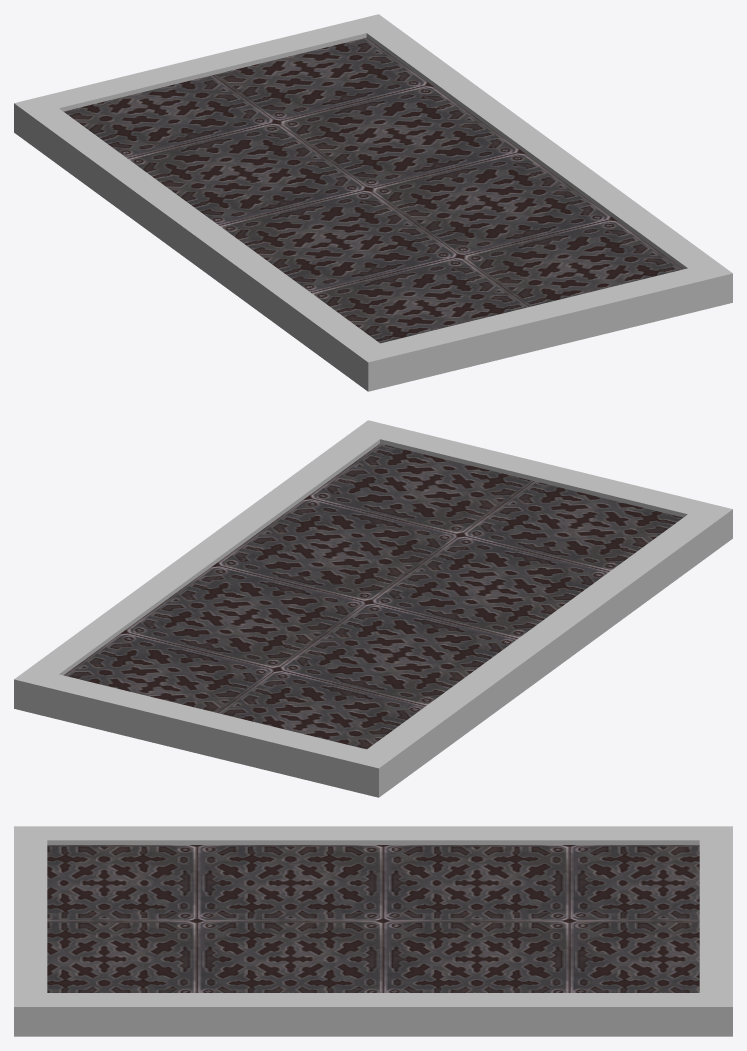
Rendered from cs_chengshi_gongyefb_003.FBX.
3 renders of one model, top to bottom at view 1: azimuth 30°, elevation 25°; view 2: azimuth 150°, elevation 25°; view 3: azimuth 270°, elevation 25°, orthographic.
Visible parts, largest first — view 1: cs_chengshi_gongyefb_003; view 2: cs_chengshi_gongyefb_003; view 3: cs_chengshi_gongyefb_003.
Boxes of the visible parts, x1=… form: cs_chengshi_gongyefb_003: x1=14, y1=14, x2=732, y2=391; cs_chengshi_gongyefb_003: x1=14, y1=420, x2=732, y2=797; cs_chengshi_gongyefb_003: x1=14, y1=826, x2=732, y2=1036.
Bounding box in the file's own units: 446 × 34.3 × 750.
